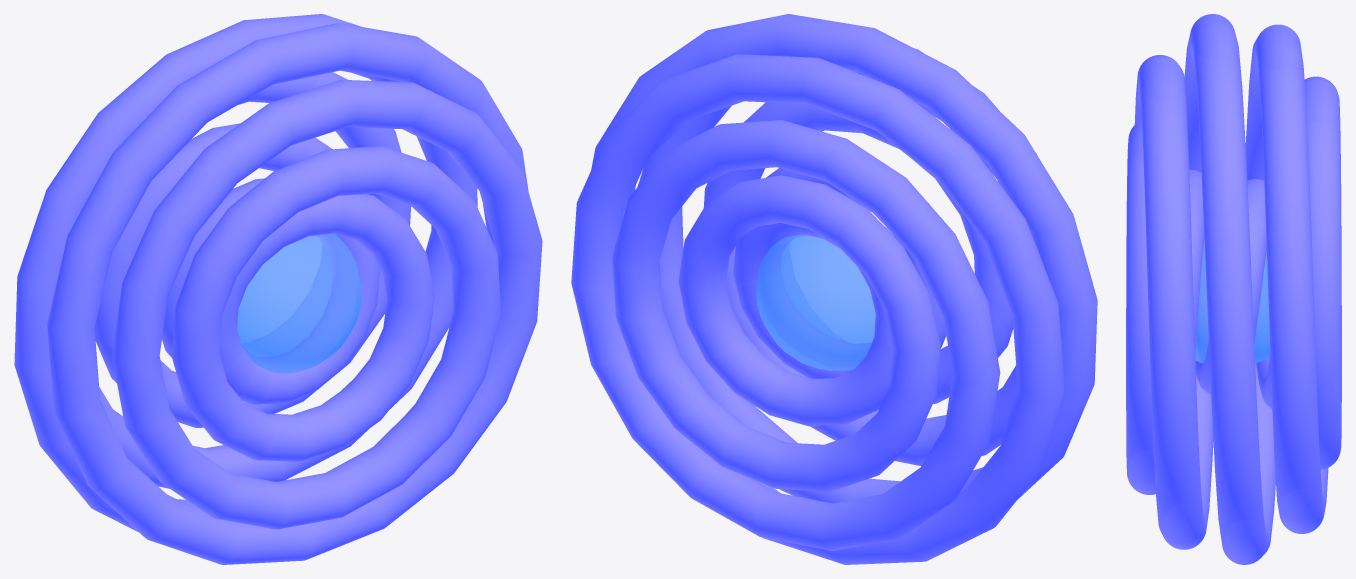
3 views of the same model, side by side, from view 1: azimuth 30°, elevation 25°; view 2: azimuth 150°, elevation 25°; view 3: azimuth 270°, elevation 25° (orthographic). The views are drawn at different scales.
Parts seen in each view (by area): view 1: TorusKnot, Sphere; view 2: TorusKnot, Sphere; view 3: TorusKnot, Sphere.
Part boxes in pixels (x1,y1,x2,y2): TorusKnot: [14, 14, 542, 564]; Sphere: [237, 233, 361, 373]; TorusKnot: [571, 14, 1097, 564]; Sphere: [756, 226, 892, 370]; TorusKnot: [1126, 14, 1341, 564]; Sphere: [1195, 239, 1270, 363].
Size of the model in its own units: 4.83 by 4.84 by 1.9.
